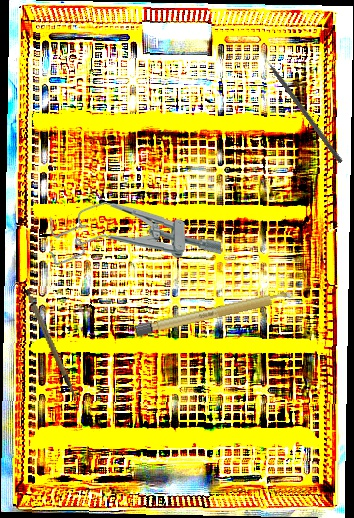Hook Surgical: (258, 48, 344, 164)
Scalpel Handle: (132, 288, 297, 338), (22, 284, 77, 404)
Speculum: (48, 200, 222, 269)
